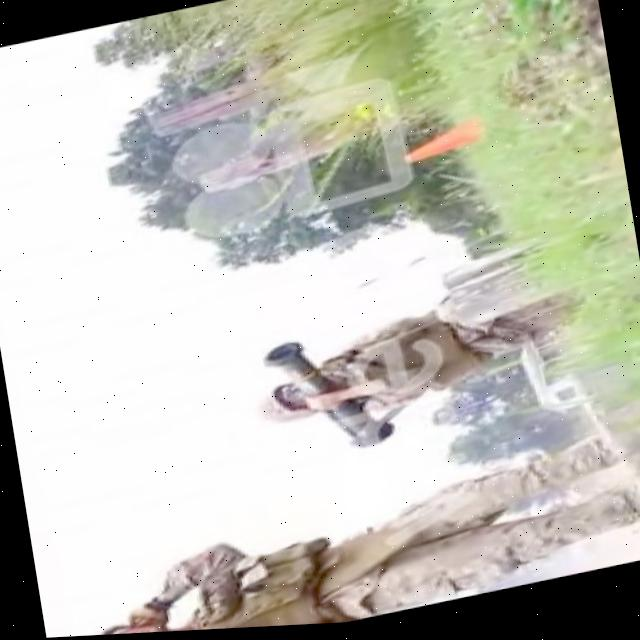rocket: (264, 323, 402, 472)
